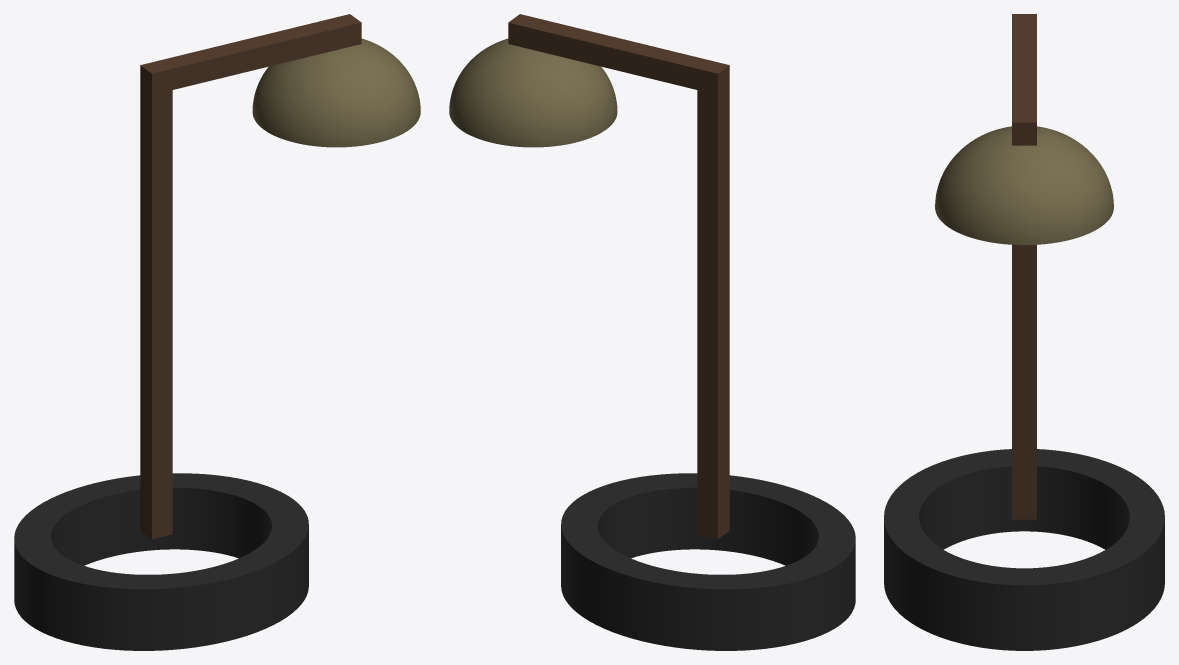
File: G10_Lamp1.fbx
The picture shows the model from 3 angles, left to right: view 1: azimuth 30°, elevation 25°; view 2: azimuth 150°, elevation 25°; view 3: azimuth 270°, elevation 25°; orthographic projection. The views are drawn at different scales.
Visible parts, largest first — view 1: node_id41, node_id34 (×3); view 2: node_id41, node_id34 (×3); view 3: node_id41, node_id34 (×3).
Part boxes in pixels (x1,y1,x2,y2): node_id41: [14, 473, 308, 650]; node_id34 (×3): [140, 14, 420, 539]; node_id41: [561, 473, 855, 650]; node_id34 (×3): [449, 14, 729, 539]; node_id41: [884, 449, 1164, 650]; node_id34 (×3): [935, 14, 1113, 519].
Size of the model in its own units: 0.2871 by 0.3809 by 0.173.
Materials: 4 (4 with a texture image).
